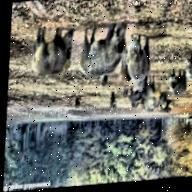boar: (78, 21, 128, 80), (29, 26, 75, 79)
